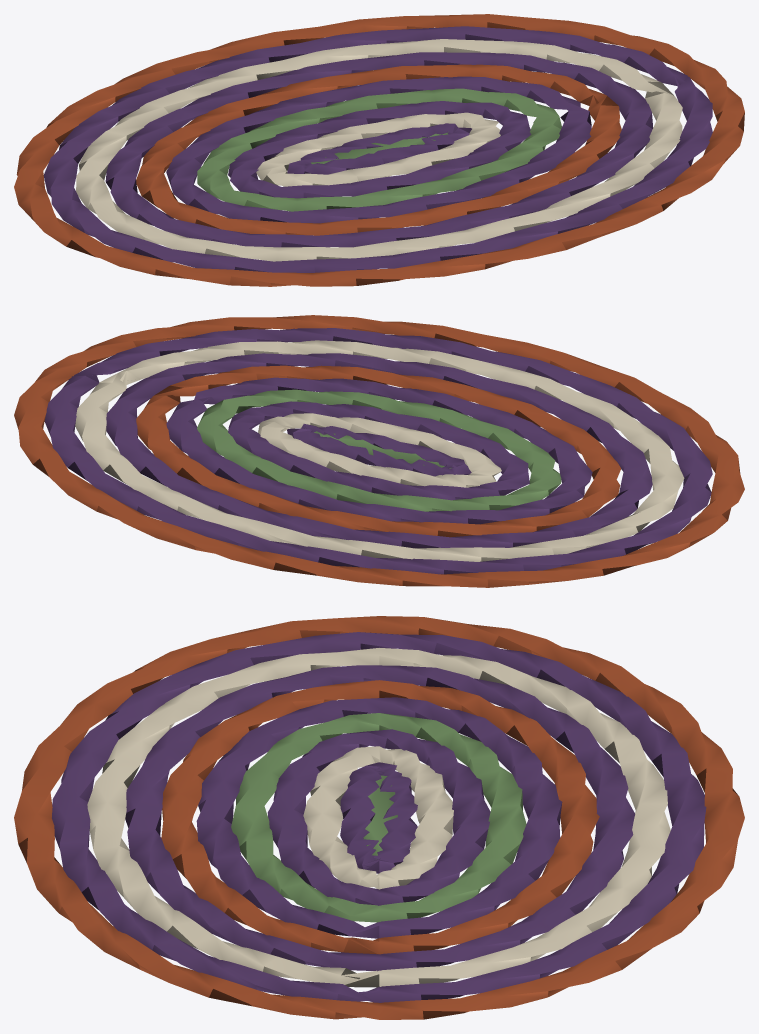
The model's file is rug_rag.glb.
3 renders of one model, top to bottom at view 1: azimuth 30°, elevation 25°; view 2: azimuth 150°, elevation 25°; view 3: azimuth 270°, elevation 25°, orthographic. The views are drawn at different scales.
Parts seen in each view (by area): view 1: rug_rag; view 2: rug_rag; view 3: rug_rag.
Part boxes in pixels (x1,y1,x2,y2): rug_rag: [14, 14, 744, 286]; rug_rag: [14, 315, 744, 587]; rug_rag: [14, 616, 744, 1019].
Size of the model in its own units: 1.88 by 0.0209 by 1.44.
